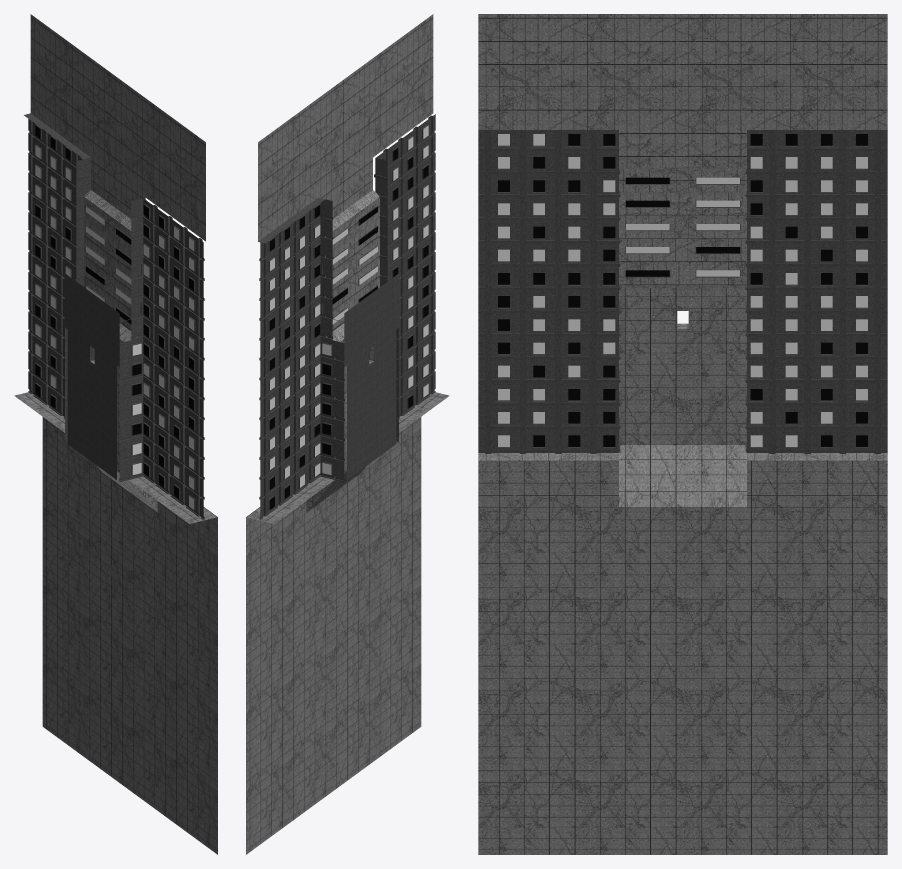
The model's file is MegastructureClosed.fbx.
The picture shows the model from 3 angles, left to right: view 1: azimuth 30°, elevation 25°; view 2: azimuth 150°, elevation 25°; view 3: azimuth 270°, elevation 25°; orthographic projection. The views are drawn at different scales.
Parts seen in each view (by area): view 1: Cube.016; view 2: Cube.016; view 3: Cube.016.
Boxes of the visible parts, x1,y1,x2,y2 form: Cube.016: [14, 14, 217, 854]; Cube.016: [246, 14, 449, 854]; Cube.016: [478, 14, 887, 854].
Size of the model in its own units: 800 by 14400 by 6400.
